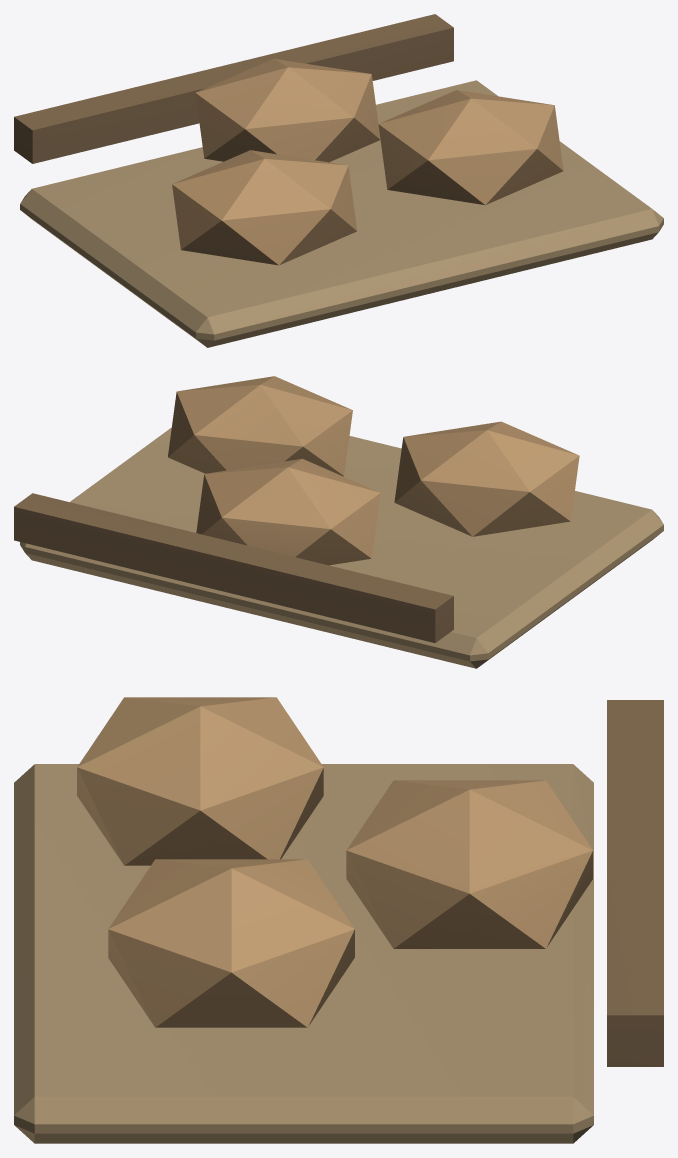
Rendered from bread_board.glb.
3 renders of one model, top to bottom at view 1: azimuth 30°, elevation 25°; view 2: azimuth 150°, elevation 25°; view 3: azimuth 270°, elevation 25°, orthographic. The views are drawn at different scales.
Parts seen in each view (by area): view 1: bread_board; view 2: bread_board; view 3: bread_board.
Boxes of the visible parts, box(x1,y1,x2,y2) form: bread_board: box(14, 14, 663, 347); bread_board: box(14, 376, 663, 668); bread_board: box(14, 697, 663, 1143).
Size of the model in its own units: 0.8 by 0.2 by 0.6275.
